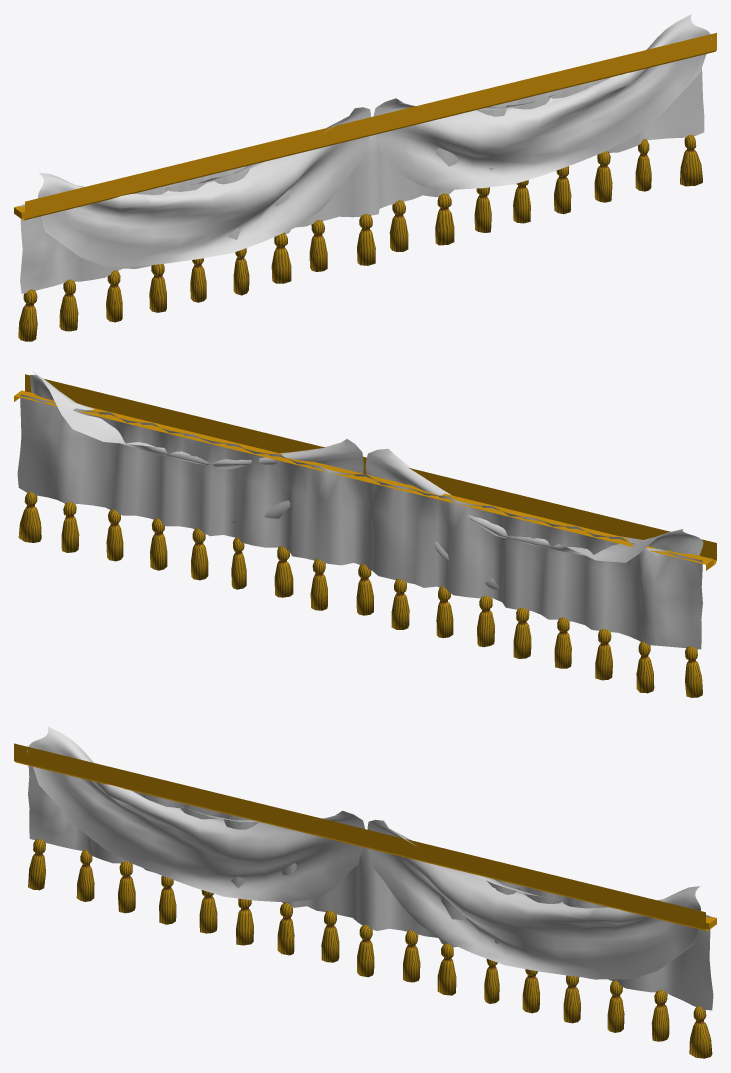
File: CortinaDecoOW.fbx
3 views of the same model, one above another, from view 1: azimuth 30°, elevation 25°; view 2: azimuth 150°, elevation 25°; view 3: azimuth 330°, elevation 25° (orthographic).
Visible parts, largest first — view 1: CortinaFaixaOW; view 2: CortinaFaixaOW; view 3: CortinaFaixaOW.
Boxes of the visible parts, box(x1,y1,x2,y2) form: CortinaFaixaOW: box(14, 14, 716, 341); CortinaFaixaOW: box(14, 371, 716, 697); CortinaFaixaOW: box(14, 726, 716, 1058).
Bounding box in the file's own units: 497 × 117 × 26.8.
